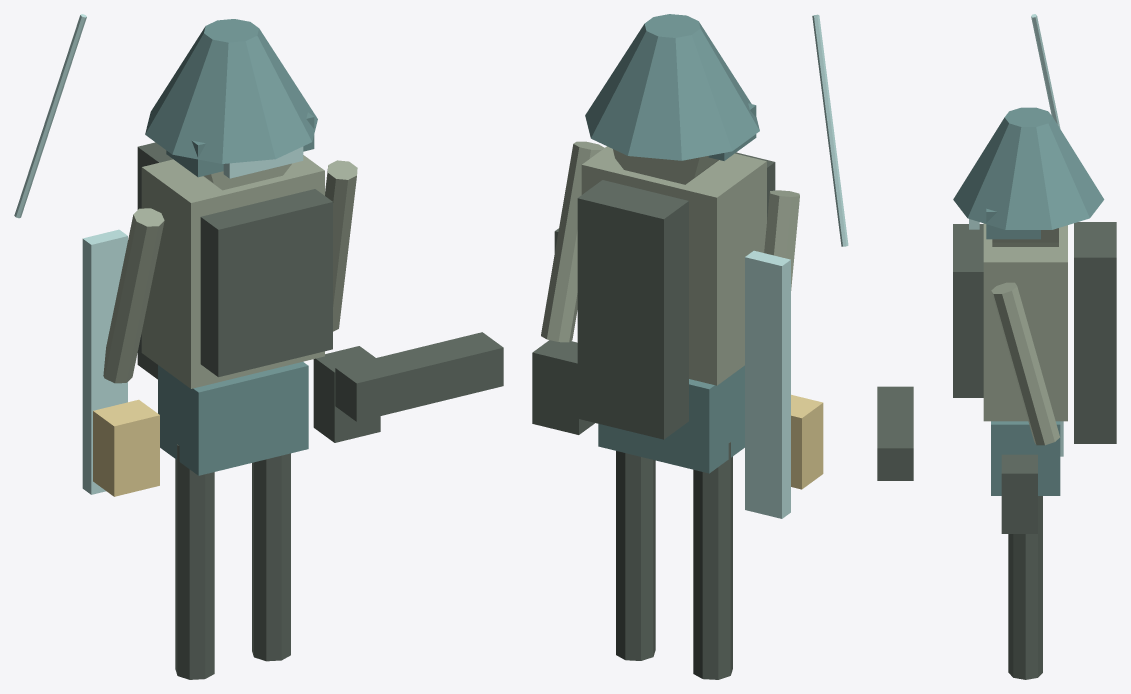
File: scout-operator-v1.glb
3 views of the same model, side by side, from view 1: azimuth 30°, elevation 25°; view 2: azimuth 150°, elevation 25°; view 3: azimuth 270°, elevation 25° (orthographic). The views are drawn at different scales.
Parts seen in each view (by area): view 1: torso:vest, head:hood, torso:chest, hips:pelvis, weapon:compact-smg, leftLeg:boot, rightLeg:boot, torso:torn-teal-cloak-left, hipMount:left, leftArm:upper, hipMount:right, rightArm:upper (+5 smaller); view 2: backMount:pack, head:hood, torso:chest, torso:torn-teal-cloak-left, leftLeg:boot, rightLeg:boot, hips:pelvis, rightArm:upper, hipMount:right, hipMount:left, leftArm:upper, head:helmet (+1 smaller); view 3: head:hood, torso:chest, backMount:pack, torso:vest, rightLeg:boot, rightArm:upper, weapon:compact-smg, hips:pelvis, hipMount:right, shoulderMount:radio-whip, head:helmet, head:hood-cowl.
Boxes of the visible parts, x1,y1,x2,y2 form: torso:vest: (200,189,332,377); head:hood: (145,19,317,163); torso:chest: (141,155,324,388); hips:pelvis: (158,362,308,475); weapon:compact-smg: (335,332,503,421); leftLeg:boot: (175,444,214,679); rightLeg:boot: (252,453,290,661); torso:torn-teal-cloak-left: (82,229,127,494); hipMount:left: (93,399,159,496); leftArm:upper: (103,208,164,383); hipMount:right: (313,346,380,442); rightArm:upper: (325,160,357,331); backMount:pack: (577,180,688,439); head:hood: (585,14,759,160); torso:chest: (581,146,766,385); torso:torn-teal-cloak-left: (745,250,790,518); leftLeg:boot: (693,442,732,679); rightLeg:boot: (616,451,655,660); hips:pelvis: (598,365,744,473); rightArm:upper: (541,141,604,342); hipMount:right: (532,340,594,434); hipMount:left: (791,394,823,489); leftArm:upper: (764,190,799,290); head:helmet: (613,149,718,184); head:hood: (953,107,1104,229); torso:chest: (983,223,1067,421); backMount:pack: (1074,222,1116,443); torso:vest: (953,224,983,397); rightLeg:boot: (1008,496,1042,679); rightArm:upper: (991,282,1059,445); weapon:compact-smg: (877,386,913,480); hips:pelvis: (991,421,1060,495); hipMount:right: (1001,454,1037,533); shoulderMount:radio-whip: (1031,14,1060,128); head:helmet: (992,228,1058,246); head:hood-cowl: (986,208,1040,239).
Size of the model in its own units: 1.24 by 2.12 by 0.79.
